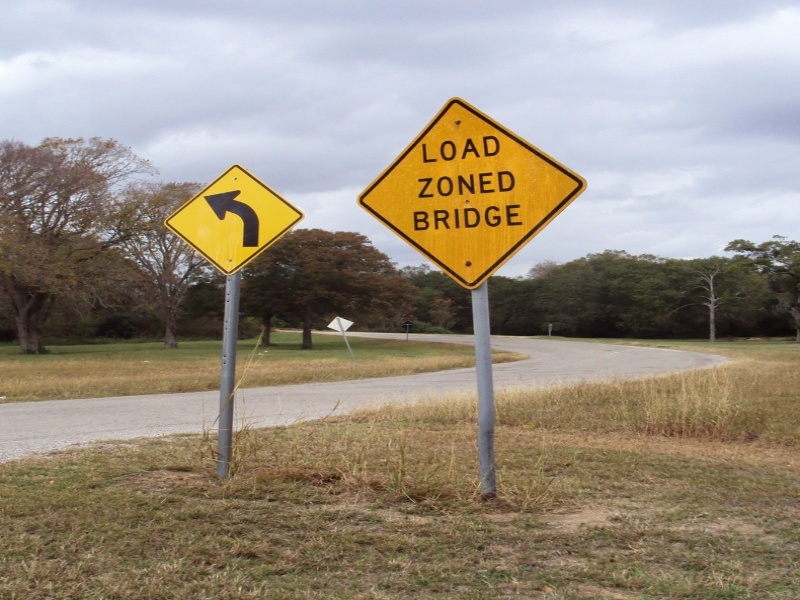left_turn_ahead: (163, 161, 307, 279)
